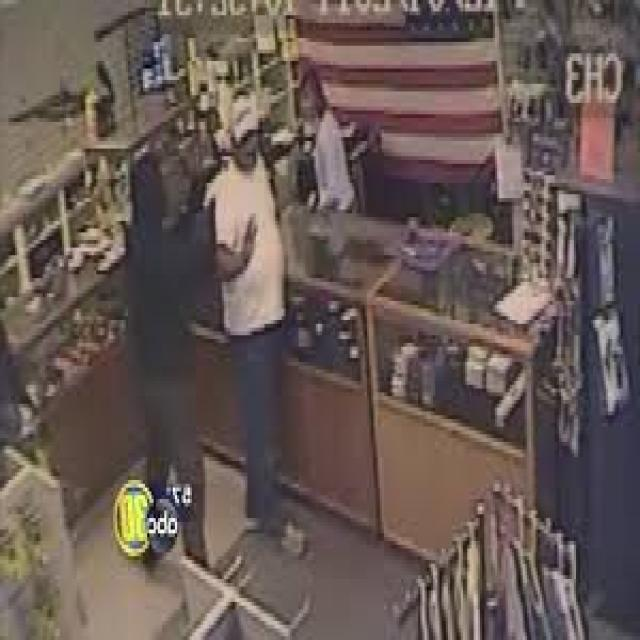pistol: (181, 152, 226, 218)
